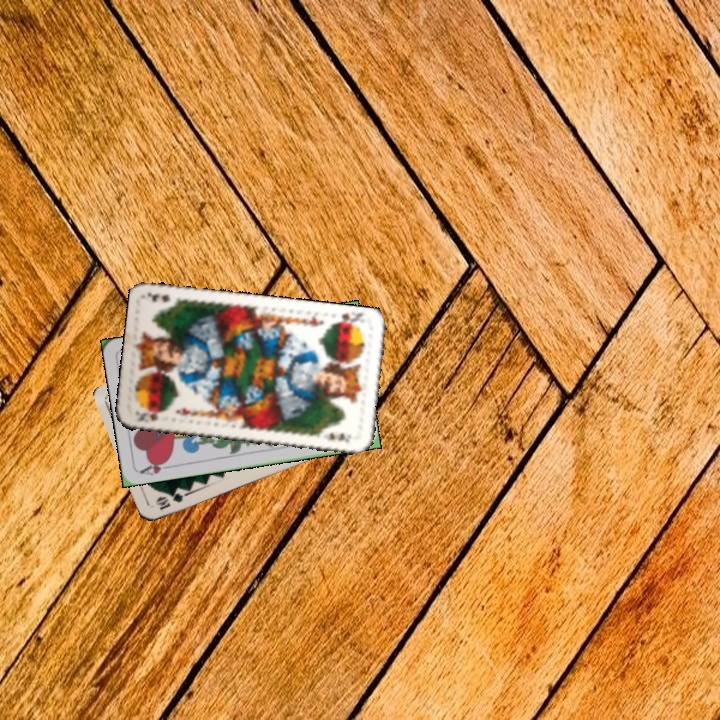G10: (151, 488, 189, 513)
HA: (136, 455, 176, 478)
SK: (330, 308, 365, 329), (131, 407, 167, 424)
